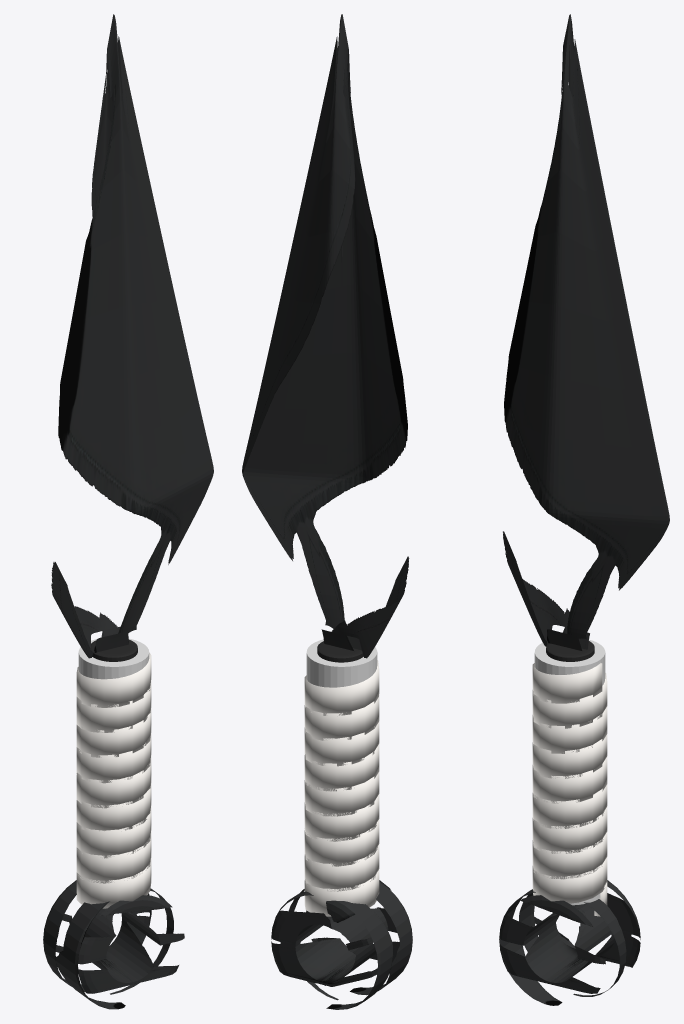
File: kunaipivot.fbx
3 renders of one model, left to right at view 1: azimuth 30°, elevation 25°; view 2: azimuth 150°, elevation 25°; view 3: azimuth 330°, elevation 25°, orthographic.
Parts seen in each view (by area): view 1: Cube.001, Plane, Cylinder.002, Cylinder, Cylinder.001; view 2: Cube.001, Plane, Cylinder.002, Cylinder, Cylinder.001; view 3: Cube.001, Plane, Cylinder.002, Cylinder, Cylinder.001.
Part boxes in pixels (x1,y1,x2,y2): Cube.001: (51,14,213,658); Plane: (76,652,151,908); Cylinder.002: (43,880,184,1009); Cylinder: (78,638,149,894); Cylinder.001: (91,639,137,661); Cube.001: (242,14,409,658); Plane: (304,660,379,916); Cylinder.002: (271,880,412,1009); Cylinder: (306,639,377,687); Cylinder.001: (317,641,363,662); Cube.001: (503,14,669,650); Plane: (532,663,607,916); Cylinder.002: (499,880,640,1005); Cylinder: (534,639,605,905); Cylinder.001: (546,641,594,661).
Size of the model in its own units: 474 by 2227 by 174.
